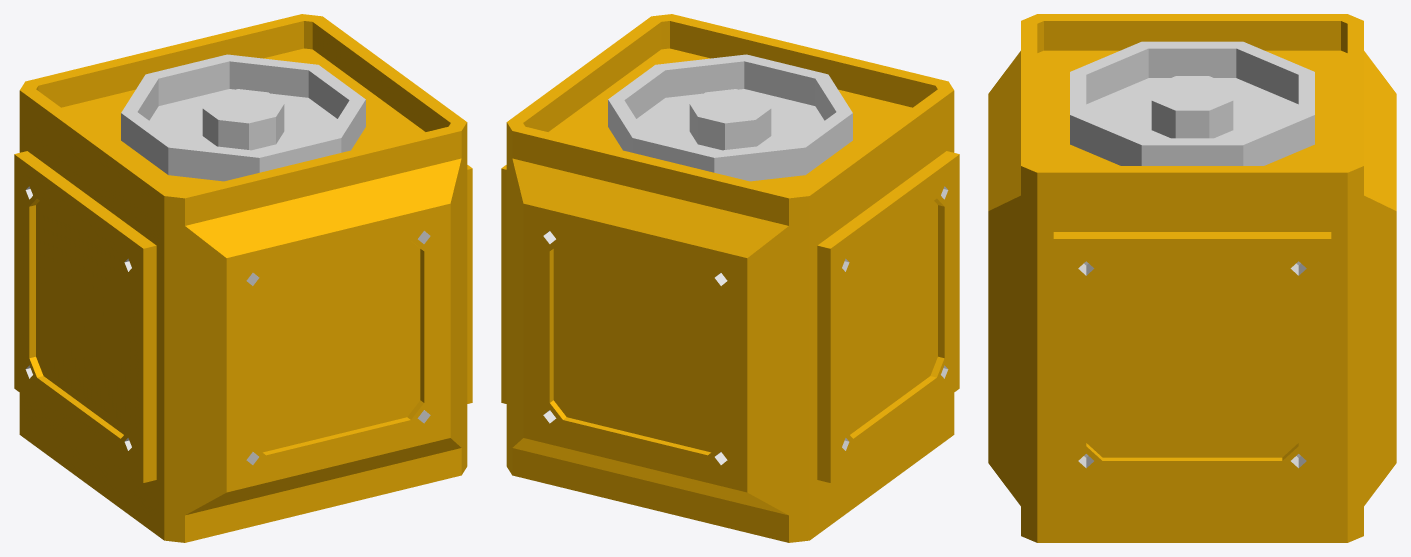
Rendered from modular_engine_crankshaft_1x1x1.dae.
3 views of the same model, side by side, from view 1: azimuth 30°, elevation 25°; view 2: azimuth 150°, elevation 25°; view 3: azimuth 270°, elevation 25° (orthographic). The views are drawn at different scales.
Visible parts, largest first — view 1: Cube; view 2: Cube; view 3: Cube.
Boxes of the visible parts, x1,y1,x2,y2 form: Cube: (14, 14, 472, 542); Cube: (501, 14, 959, 542); Cube: (988, 14, 1396, 542).
Size of the model in its own units: 0.25 by 0.25 by 0.25.
